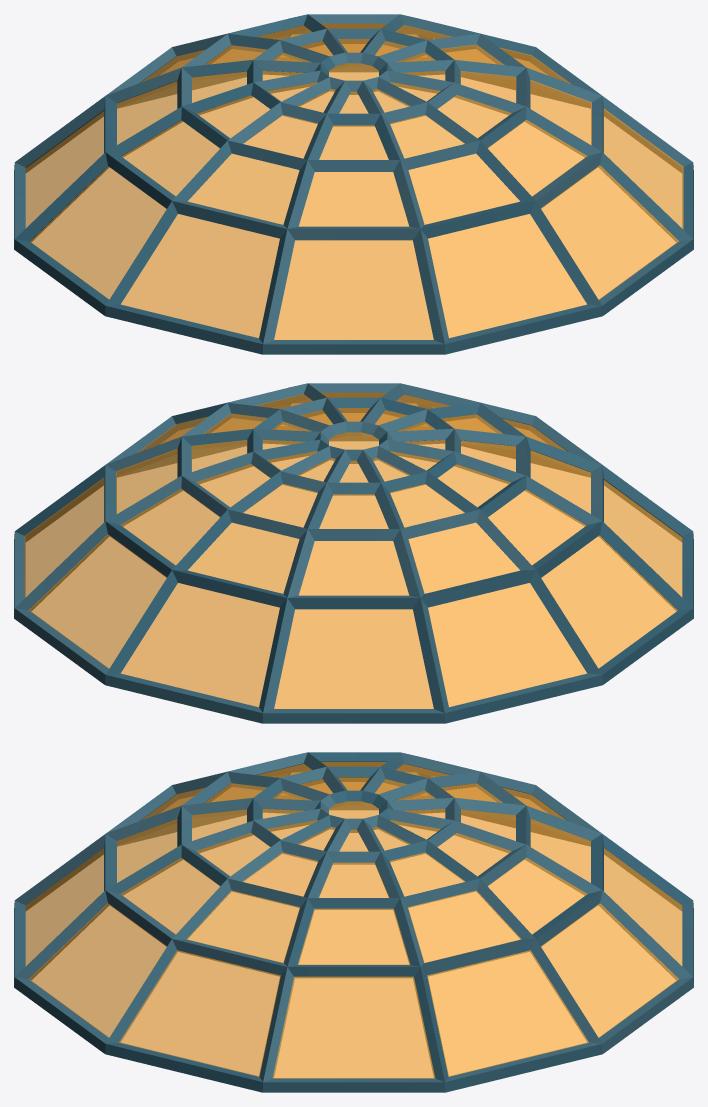
File: CeilingWindow.fbx
The picture shows the model from 3 angles, top to bottom: view 1: azimuth 30°, elevation 25°; view 2: azimuth 150°, elevation 25°; view 3: azimuth 270°, elevation 25°; orthographic projection.
Parts seen in each view (by area): view 1: CeilingWindow_LOD0; view 2: CeilingWindow_LOD0; view 3: CeilingWindow_LOD0.
Part boxes in pixels (left/top/right/bottom): CeilingWindow_LOD0: left=14, top=14, right=693, bottom=354; CeilingWindow_LOD0: left=14, top=383, right=693, bottom=723; CeilingWindow_LOD0: left=14, top=752, right=693, bottom=1092.
Size of what is drawn, in the model's own units: 1061 by 249 by 1061.
